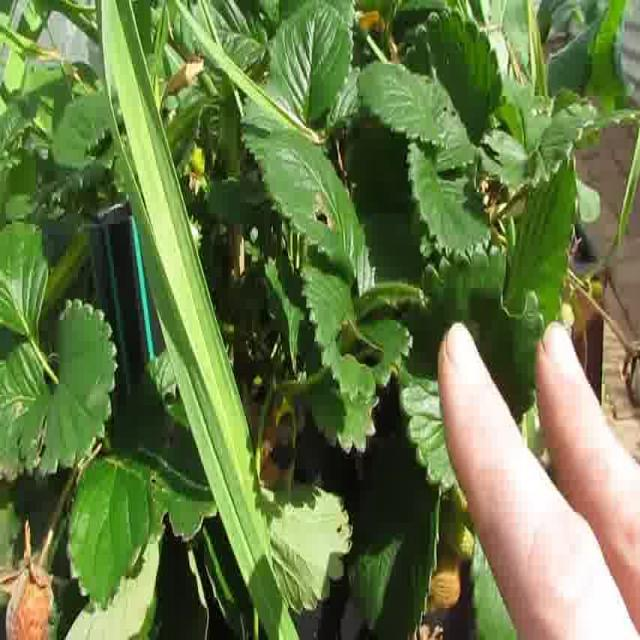Fruta sana: (424, 556, 461, 609), (436, 517, 476, 563), (441, 480, 476, 524), (189, 148, 206, 176), (590, 280, 604, 300)
Moho gris: (0, 565, 55, 640), (622, 341, 640, 409)
